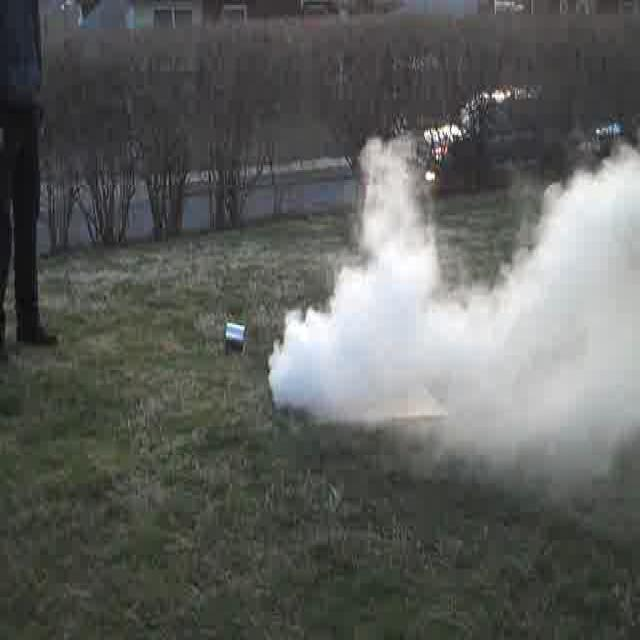Smoke: (270, 237, 640, 456)
